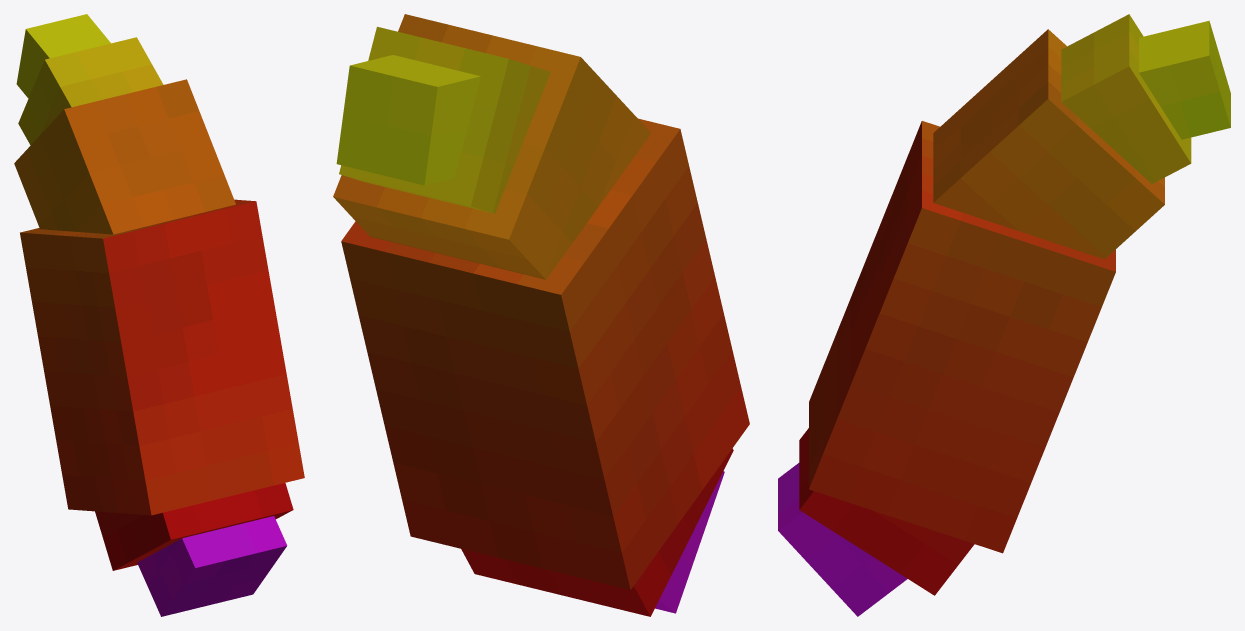
The model's file is b783d4b9-dd0e-41bb-8aa3-87efac967c19.glb.
3 views of the same model, side by side, from view 1: azimuth 30°, elevation 25°; view 2: azimuth 150°, elevation 25°; view 3: azimuth 270°, elevation 25° (orthographic). The views are drawn at different scales.
Visible parts, largest first — view 1: Box004, Box003, Box006, Box002, Box005, Box001; view 2: Box004, Box003, Box001, Box002, Box005, Box006; view 3: Box004, Box003, Box002, Box005, Box001, Box006.
Part boxes in pixels (box(x1,y1,x2,y2)): Box004: box(20, 199, 304, 515); Box003: box(14, 79, 235, 234); Box006: box(137, 516, 287, 616); Box002: box(18, 37, 163, 145); Box005: box(95, 483, 293, 570); Box001: box(16, 14, 110, 98); Box004: box(341, 118, 749, 589); Box003: box(333, 14, 651, 279); Box001: box(336, 55, 480, 185); Box002: box(339, 26, 550, 213); Box005: box(461, 448, 733, 616); Box006: box(655, 471, 724, 613); Box004: box(809, 121, 1115, 553); Box003: box(933, 29, 1164, 259); Box002: box(1061, 14, 1191, 183); Box005: box(799, 428, 974, 595); Box001: box(1139, 20, 1230, 139); Box006: box(778, 463, 907, 616).
Size of the model in its own units: 0.127 by 0.3749 by 0.2783.
1 material, 1 textured.
